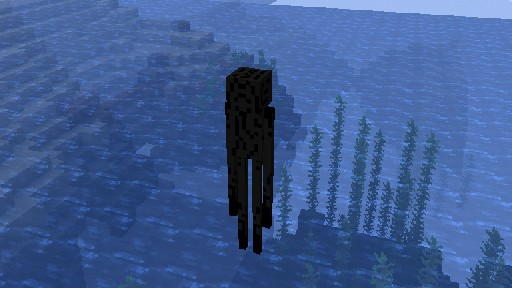enderman: (224, 65, 275, 254)
